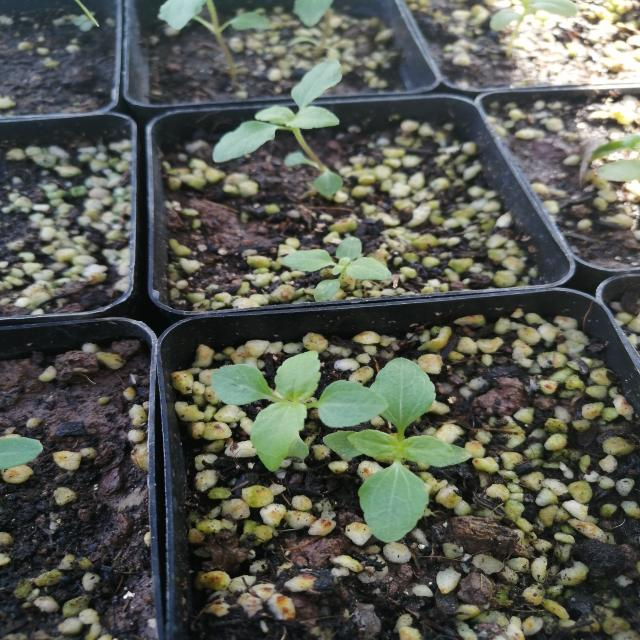billygoat_weed: (330, 330, 496, 540), (189, 50, 384, 206), (207, 330, 356, 482), (291, 228, 398, 290)
